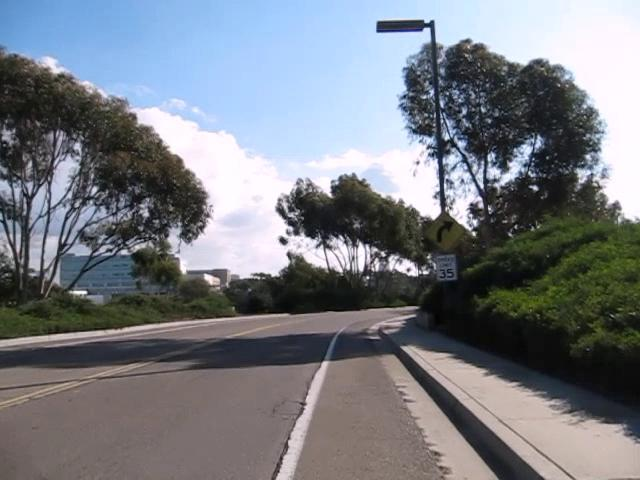speedLimit35: (434, 253, 458, 281)
